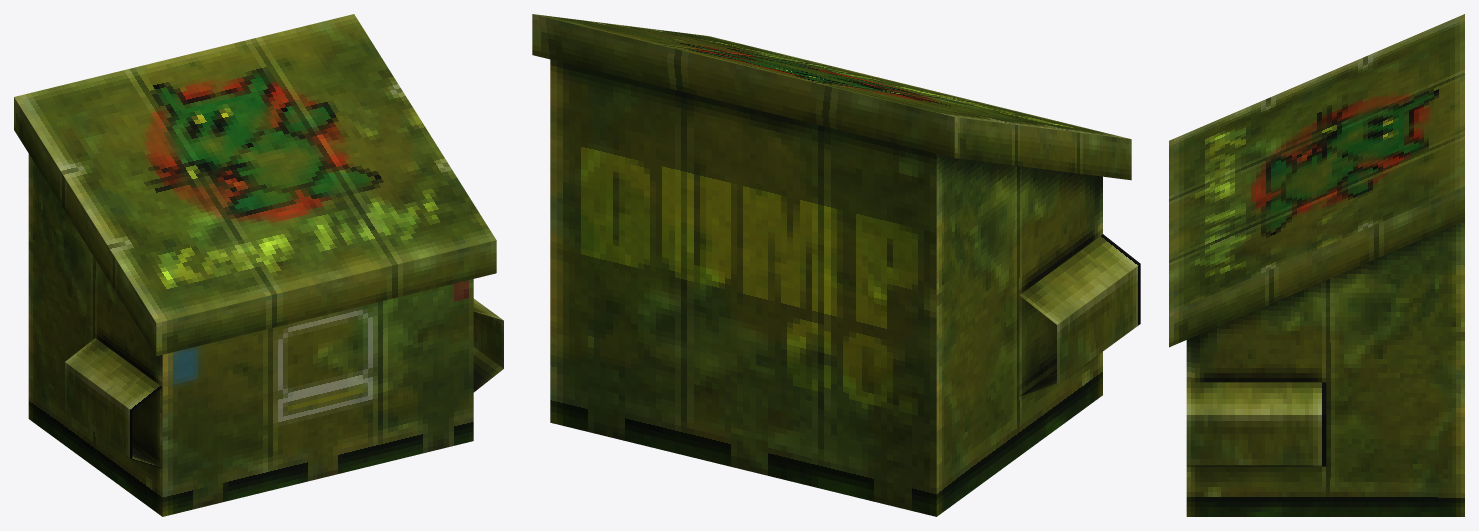
3 renders of one model, left to right at view 1: azimuth 30°, elevation 25°; view 2: azimuth 150°, elevation 25°; view 3: azimuth 270°, elevation 25°, orthographic. The views are drawn at different scales.
Visible parts, largest first — view 1: prim221-Line01; view 2: prim221-Line01; view 3: prim221-Line01.
Boxes of the visible parts, bbox=[...] form: prim221-Line01: bbox=[14, 14, 503, 516]; prim221-Line01: bbox=[532, 14, 1140, 516]; prim221-Line01: bbox=[1169, 14, 1464, 516].
Bounding box in the file's own units: 306 × 256 × 203.
Materials: 4 (4 with a texture image).
